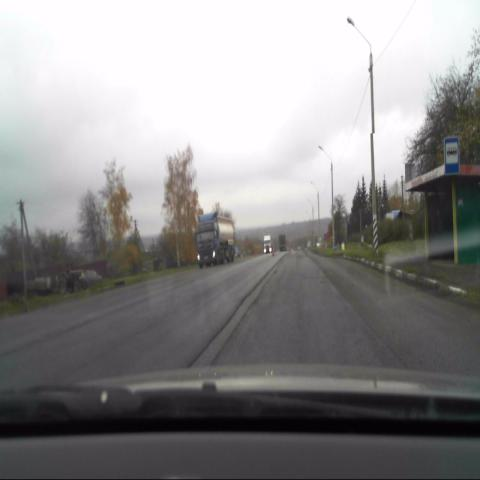5_16: (445, 137, 459, 175)
